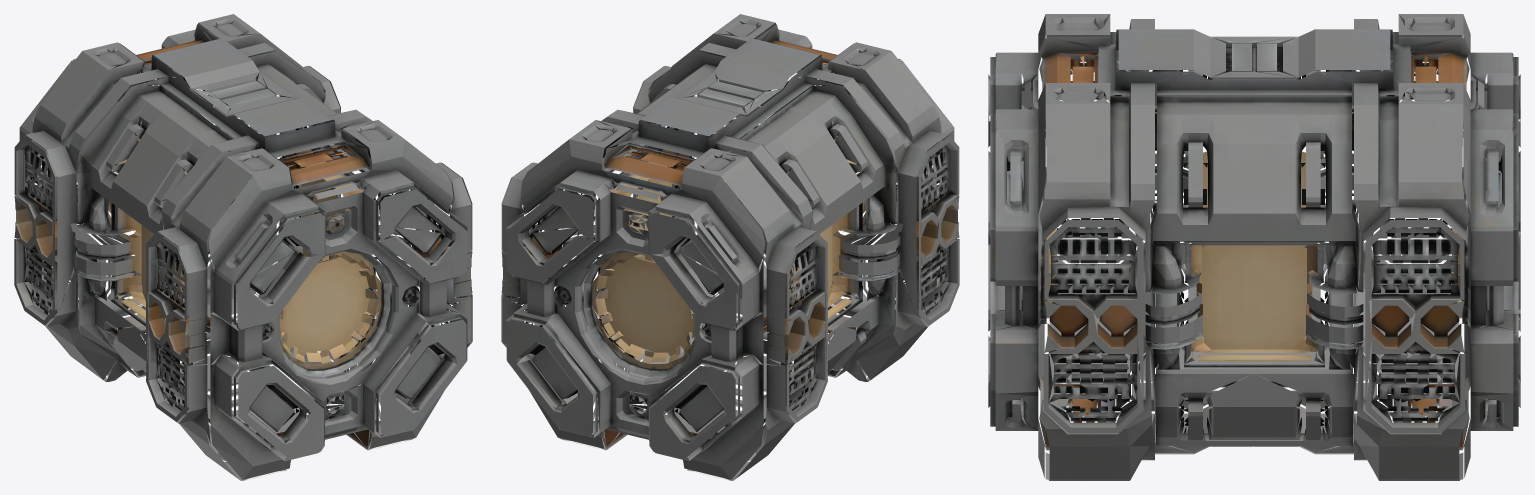
File: production_module_LOD1.glb
3 renders of one model, left to right at view 1: azimuth 30°, elevation 25°; view 2: azimuth 150°, elevation 25°; view 3: azimuth 270°, elevation 25°, orthographic. The views are drawn at different scales.
Parts seen in each view (by area): view 1: production_module_LOD1; view 2: production_module_LOD1; view 3: production_module_LOD1.
Part boxes in pixels (<box>): production_module_LOD1: <box>14,14,472,480</box>; production_module_LOD1: <box>501,14,959,480</box>; production_module_LOD1: <box>988,14,1520,480</box>.
Size of the model in its own units: 0.7573 by 0.7965 by 1.
1 material, 1 textured.
